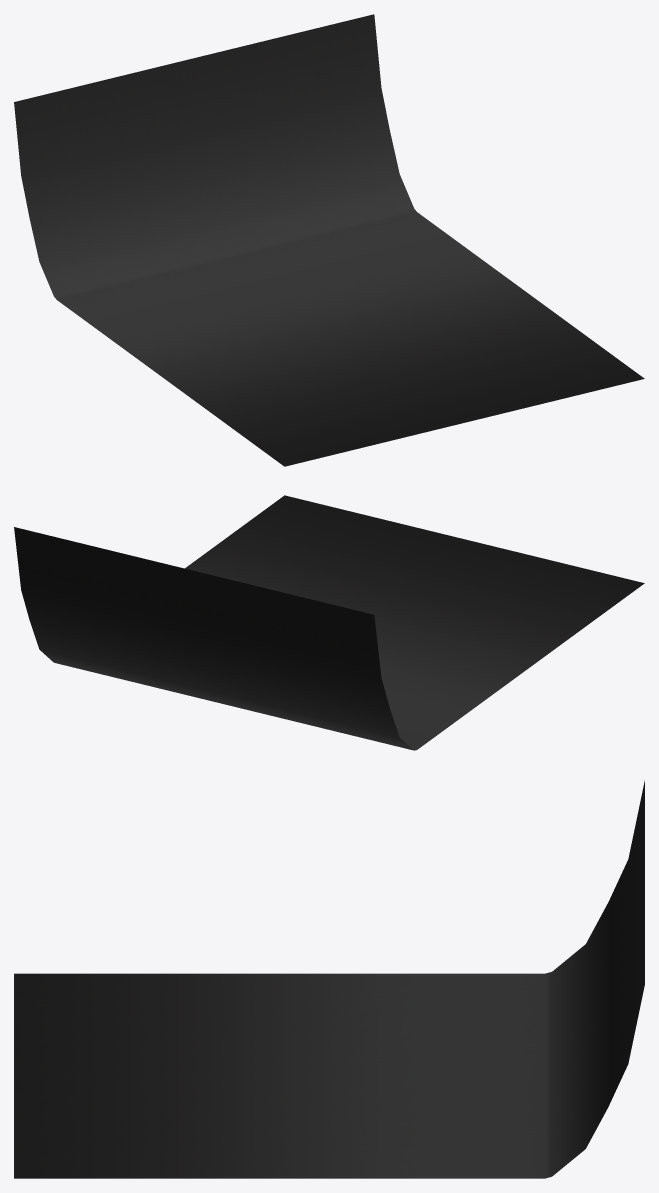
Rendered from Skillshow_plane.FBX.
The picture shows the model from 3 angles, top to bottom: view 1: azimuth 30°, elevation 25°; view 2: azimuth 150°, elevation 25°; view 3: azimuth 270°, elevation 25°; orthographic projection. The views are drawn at different scales.
Visible parts, largest first — view 1: Skillshow_plane; view 2: Skillshow_plane; view 3: Skillshow_plane.
Boxes of the visible parts, box(x1,y1,x2,y2) form: Skillshow_plane: box(14, 14, 644, 466); Skillshow_plane: box(14, 495, 644, 750); Skillshow_plane: box(14, 780, 644, 1178).
Bounding box in the file's own units: 1000 × 442 × 1301.
